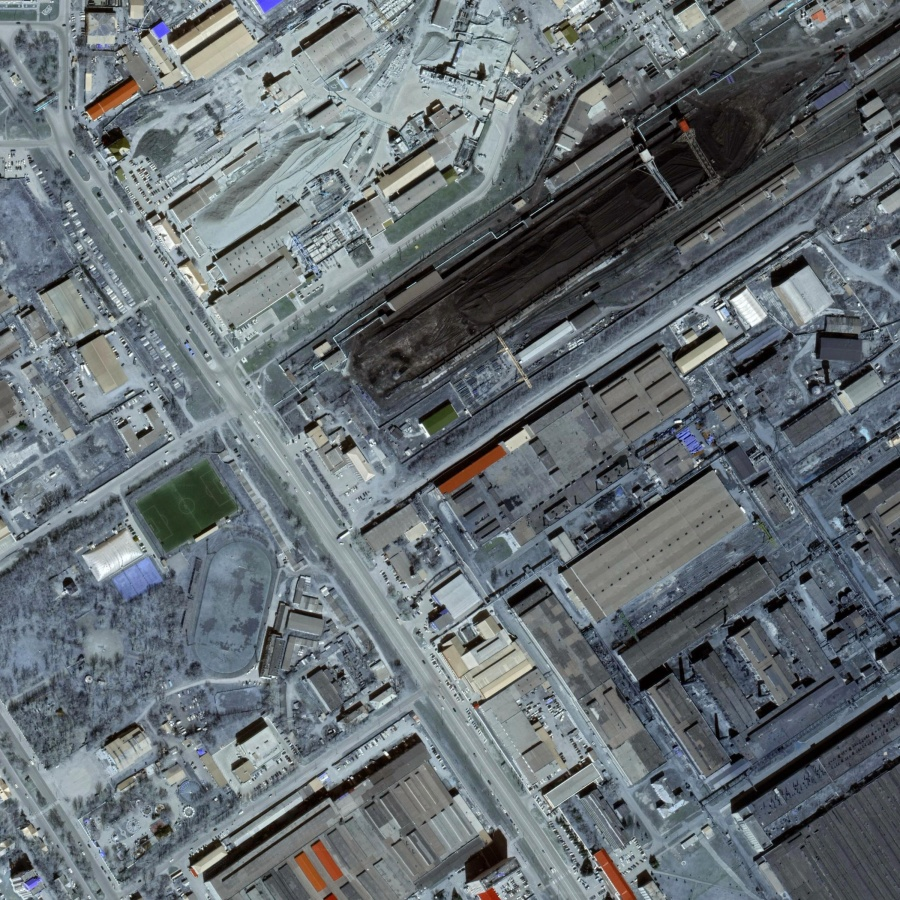PowerPlant: (326, 43, 798, 413)
